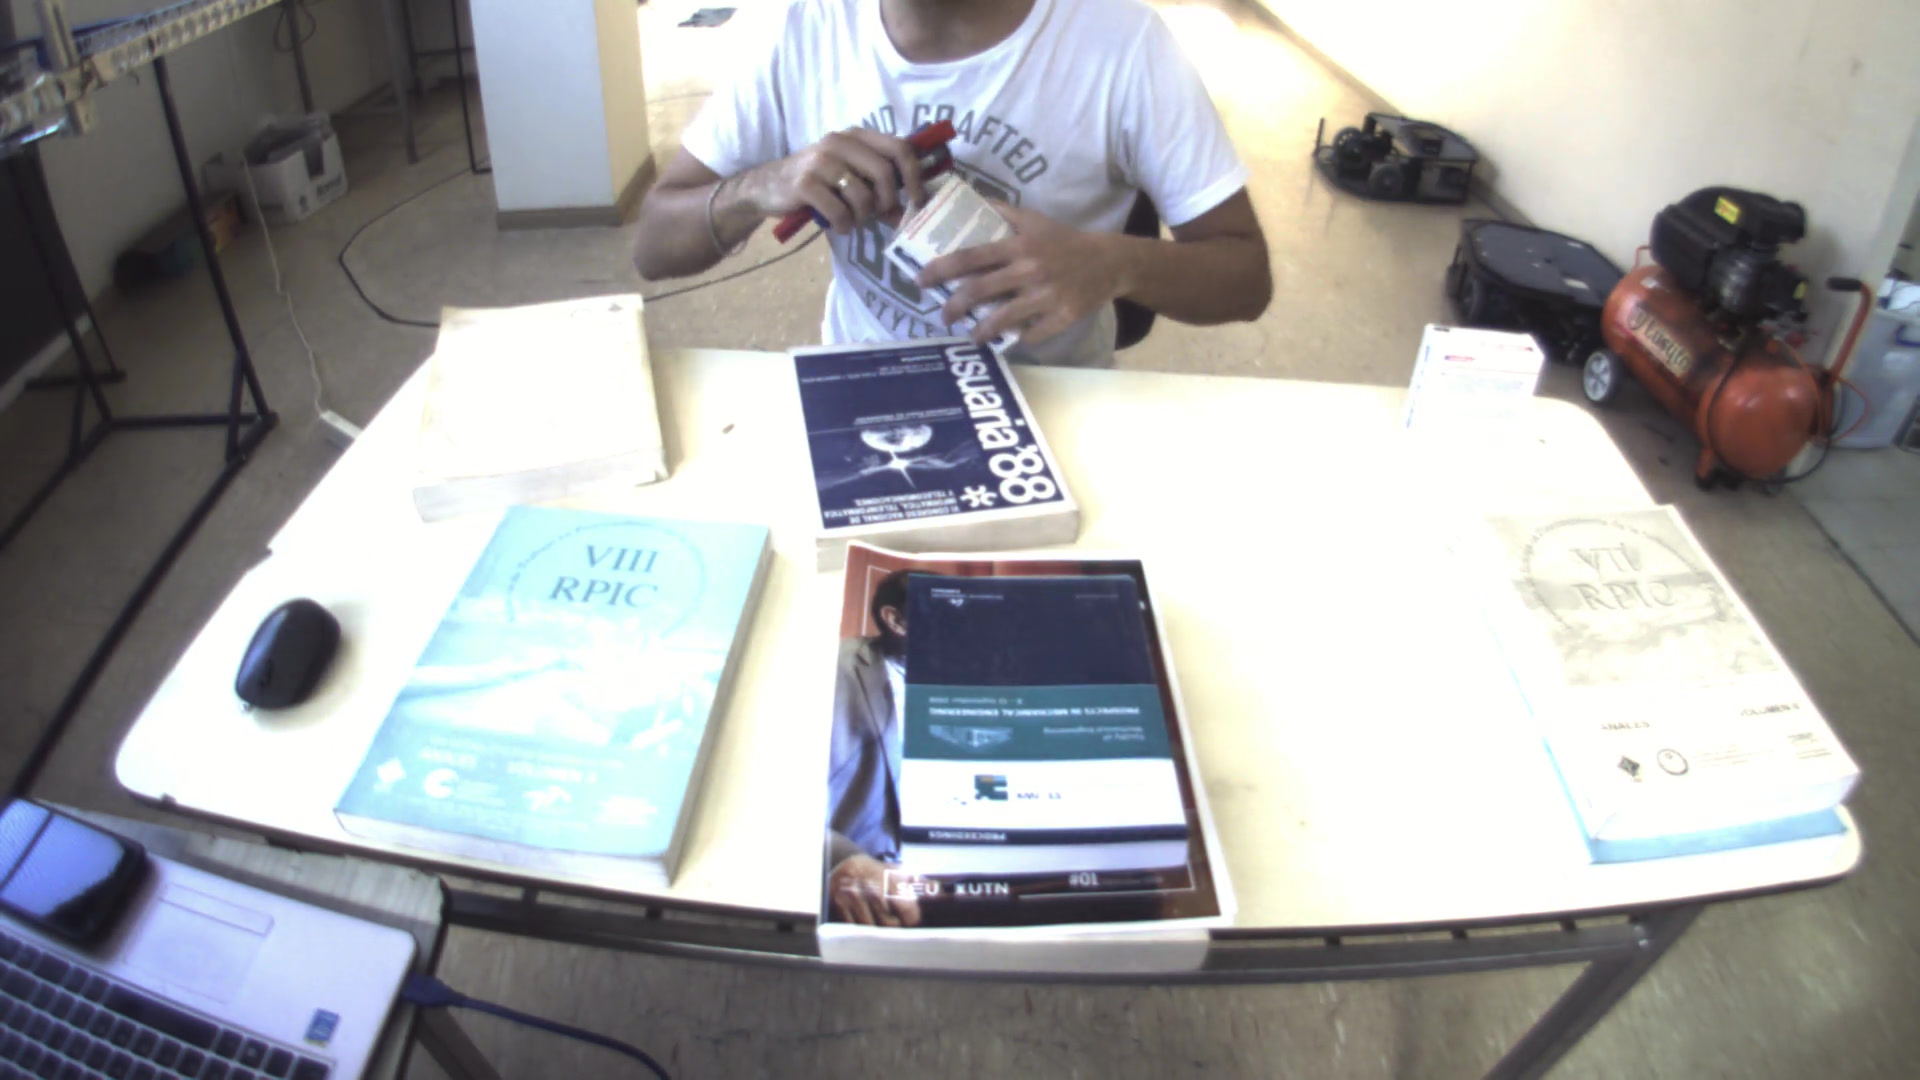hand: (902, 194, 1120, 351), (745, 127, 924, 225)
